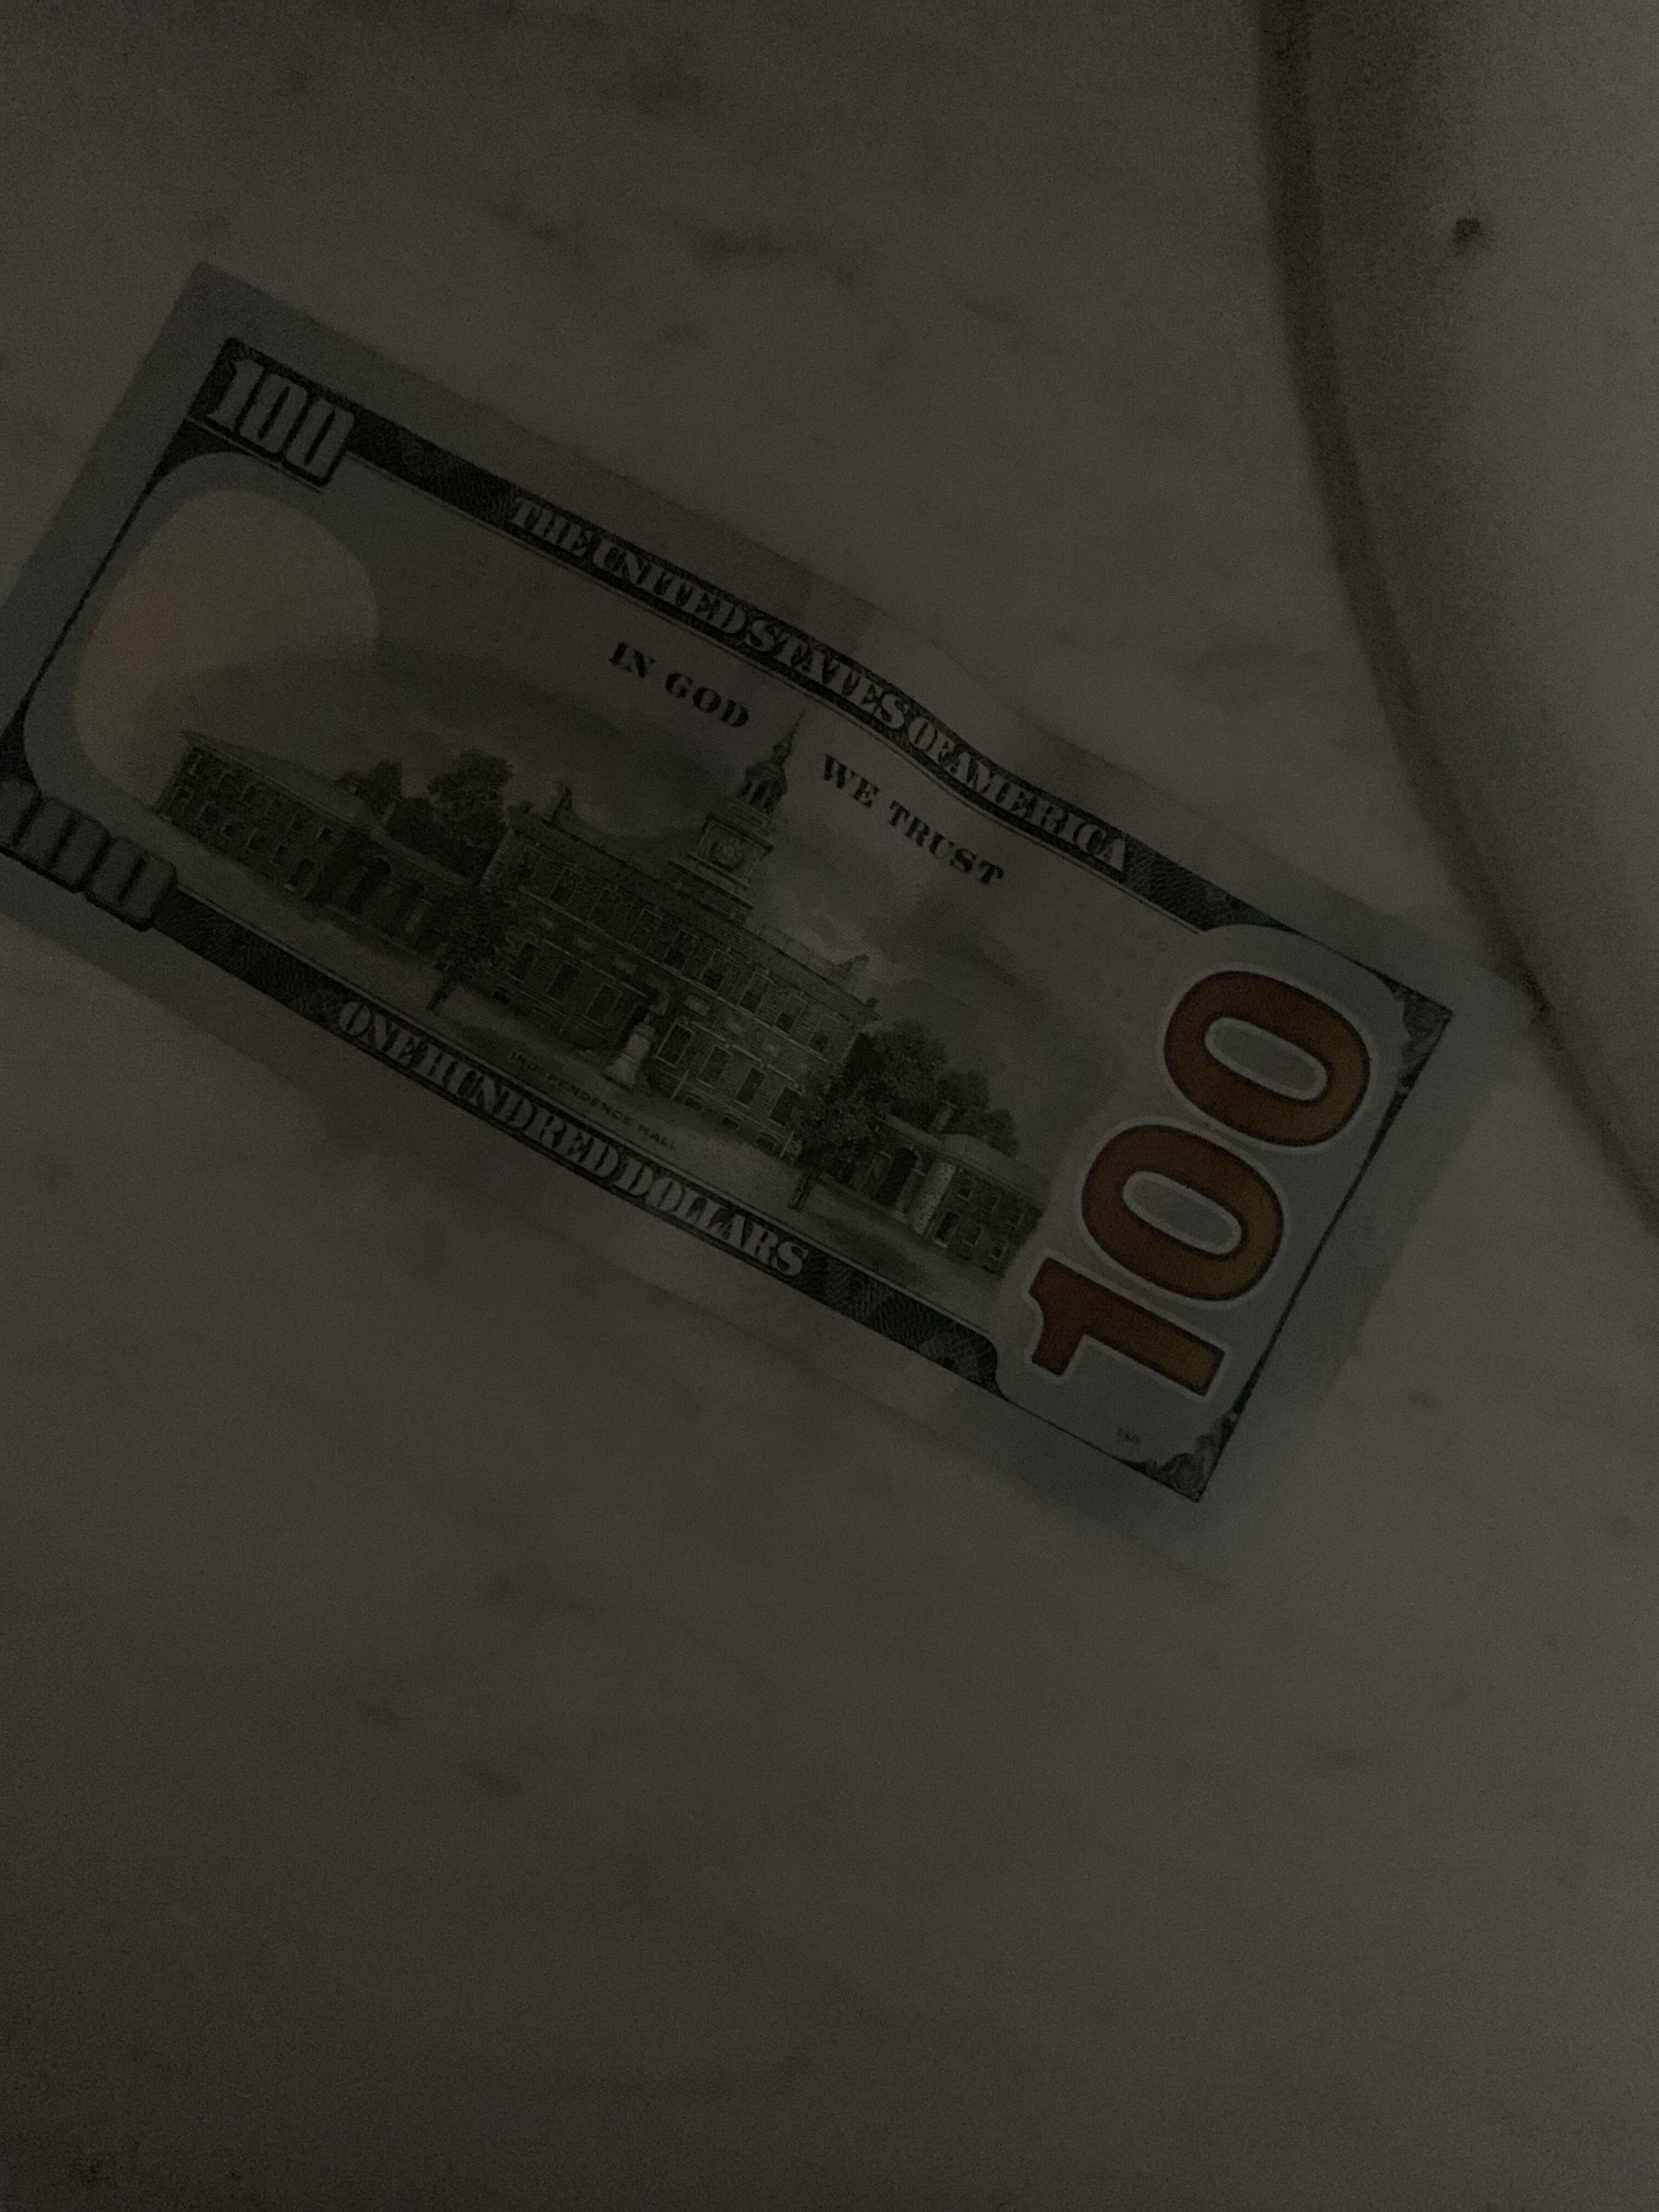HundredBill: (2, 226, 1612, 1646)
